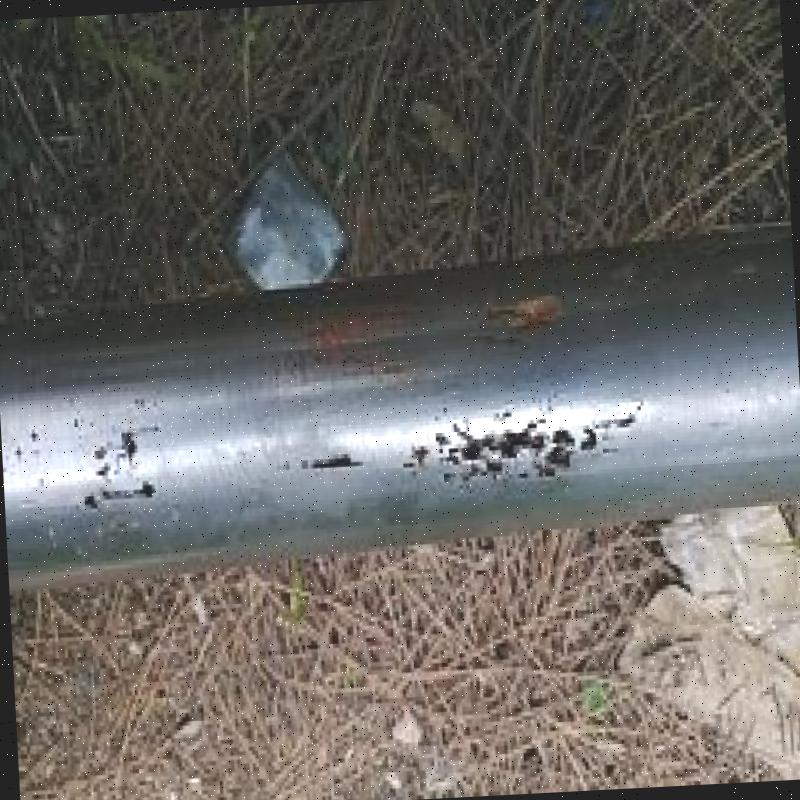Fracture: (403, 402, 618, 505)
